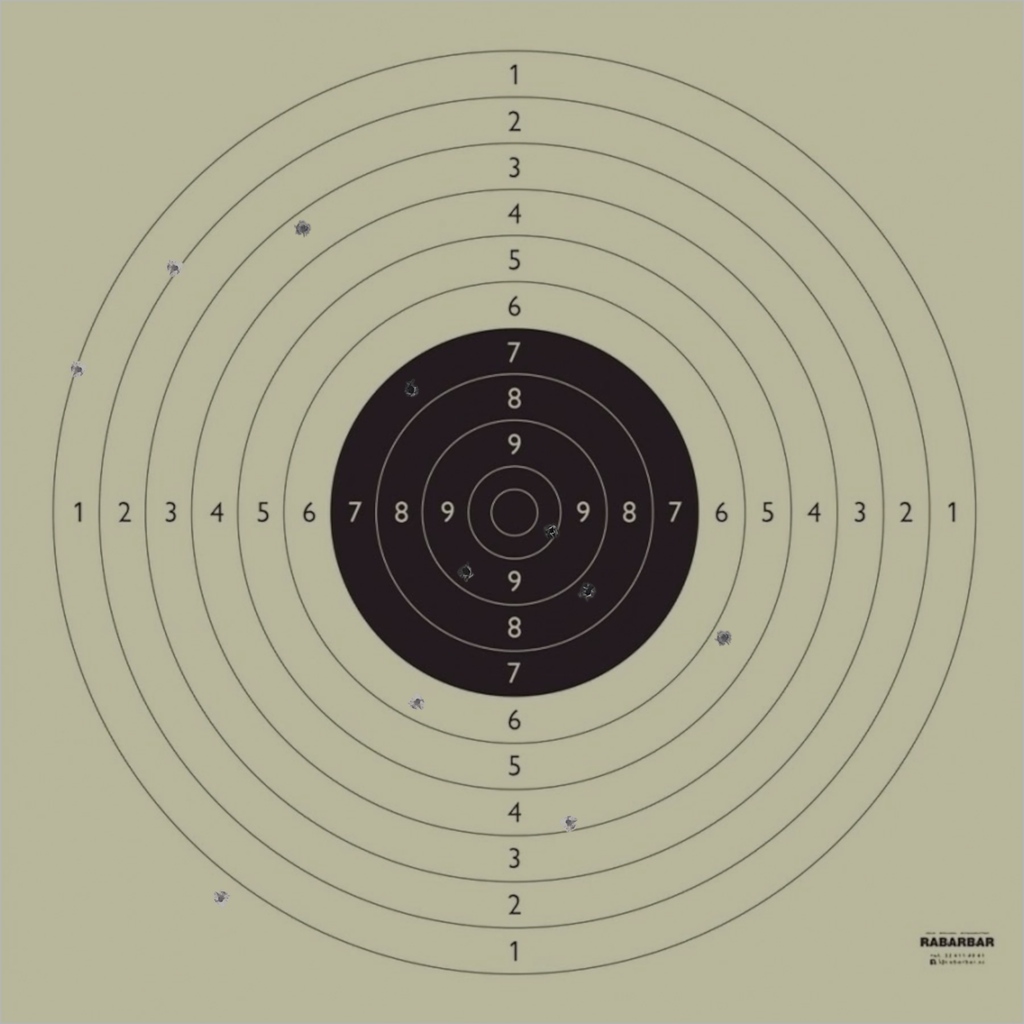0 punktow: (212, 889, 230, 908)
1 punkt: (69, 360, 87, 379)
10 punktow: (543, 521, 561, 540)
2 punkty: (165, 259, 184, 277)
3 punkty: (294, 219, 313, 238)
4 punkty: (560, 813, 578, 832)
5 punktow: (715, 628, 734, 647)
6 punktow: (408, 693, 427, 711)
7 punktow: (402, 380, 420, 399)
8 punktow: (579, 583, 597, 601)
9 punktow: (457, 563, 476, 581)
